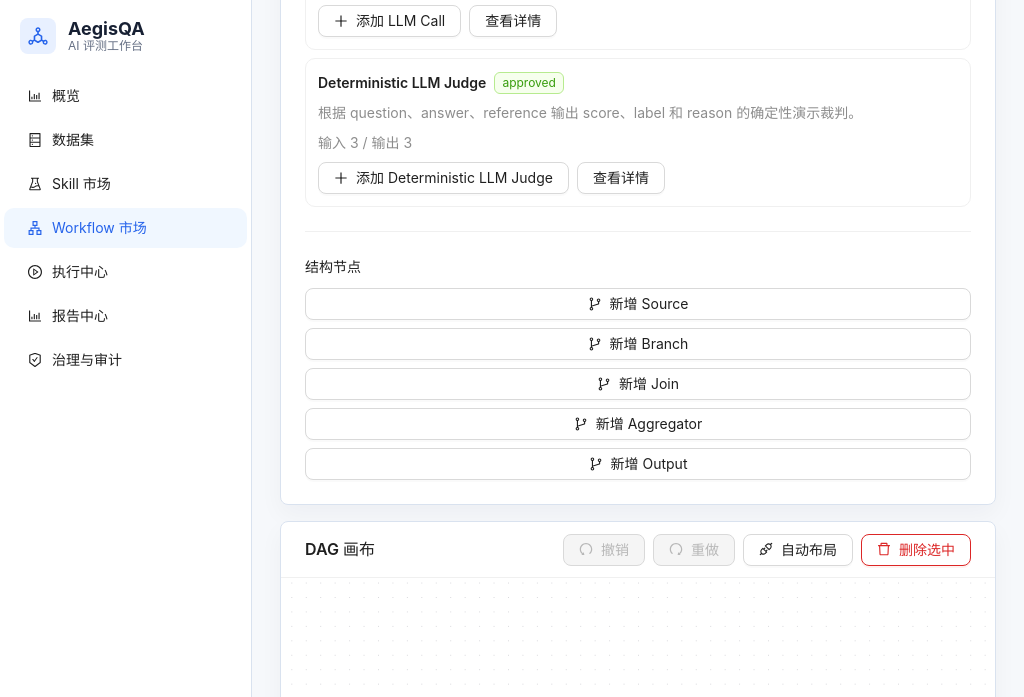
Test: AegisQA 前端工作台 › Workflow 设计器支持撤销和重做节点操作
(page scrolled)
Step 1. Click the button "新增 Join" → {"x": 638, "y": 384}, box 305,368 -> 971,400
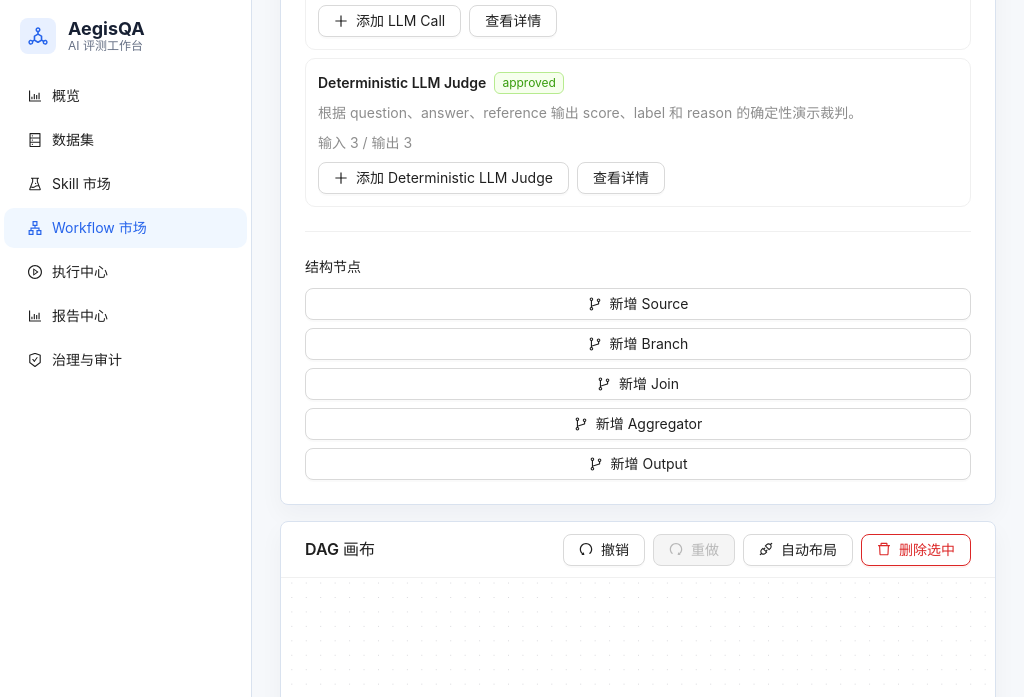
Now the button "撤销" is enabled
Step 2. Click the button "撤销" → {"x": 604, "y": 550}, box 563,534 -> 645,566
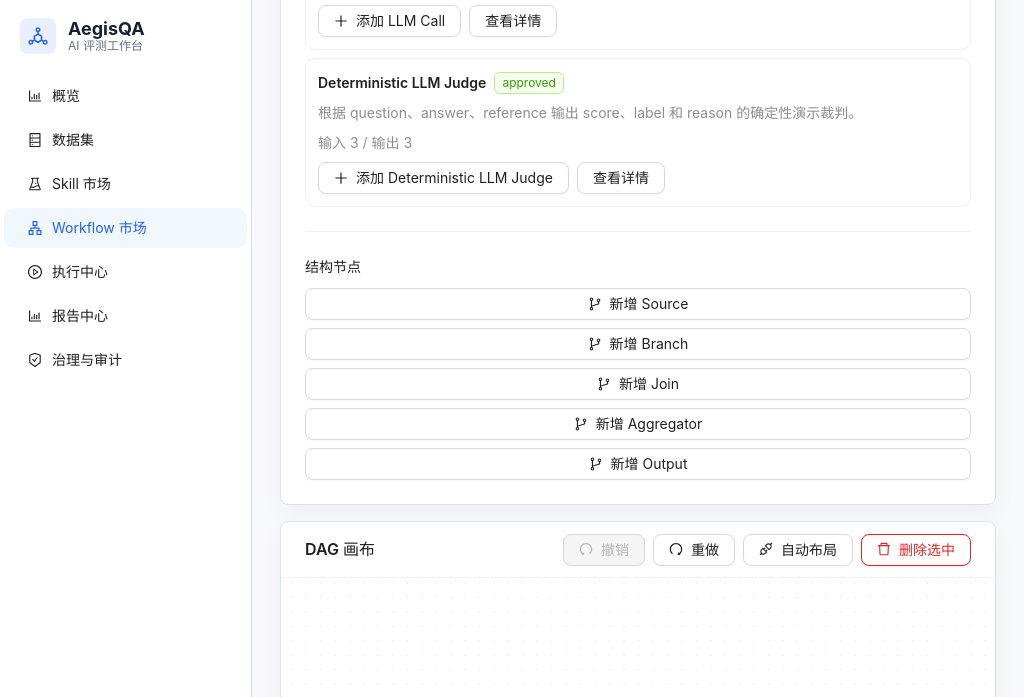
Step 3. Click the button "重做" → {"x": 694, "y": 550}, box 653,534 -> 735,566
(page scrolled)
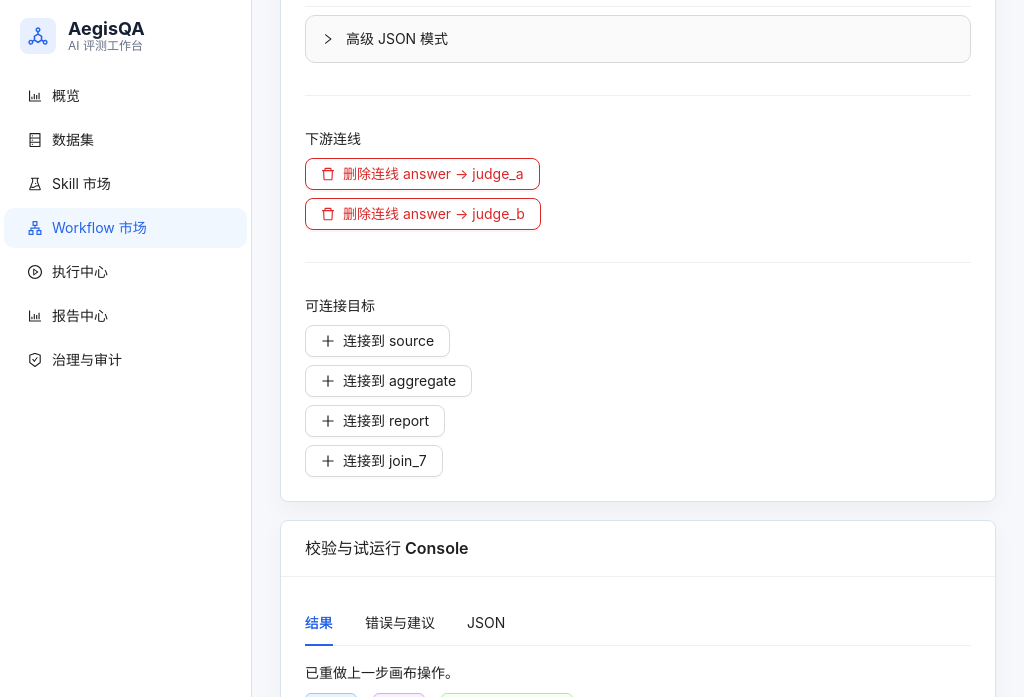
Now the text "已重做上一步画布操作。" is shown, box 305,664 -> 459,681
